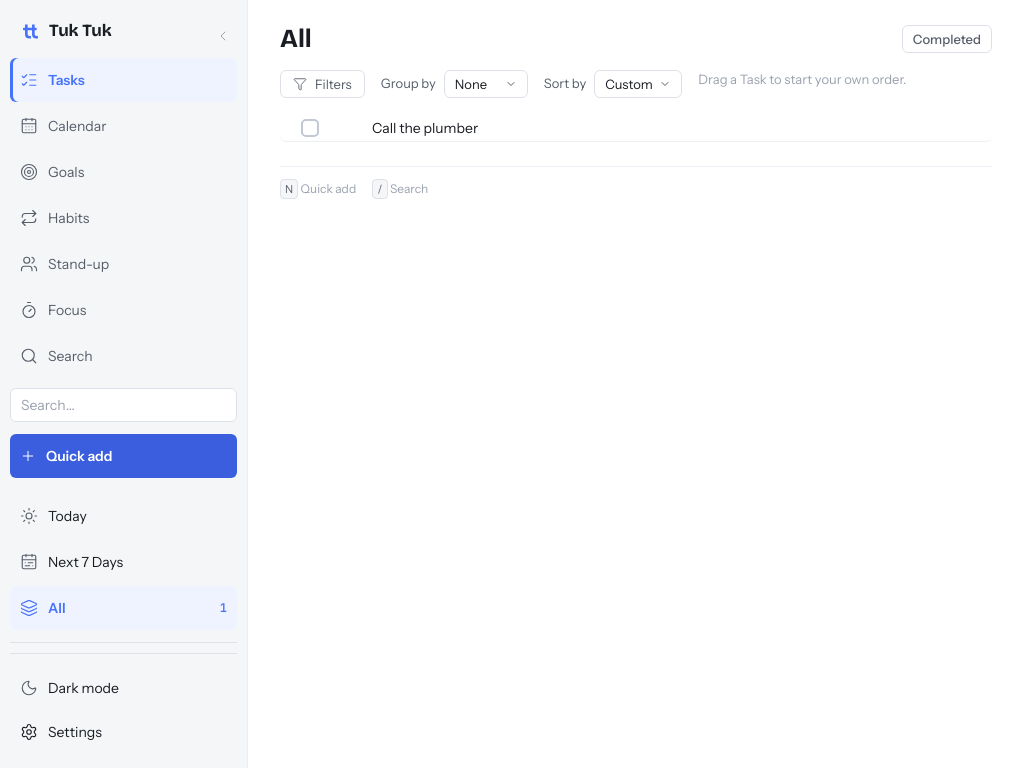
Test: acting on a Task from the command palette › opens scoped to the selected Task on cmd/ctrl+K
Click the button with aria-label "Open details for Call the plumber" at (490,128), box [372,119,608,137]
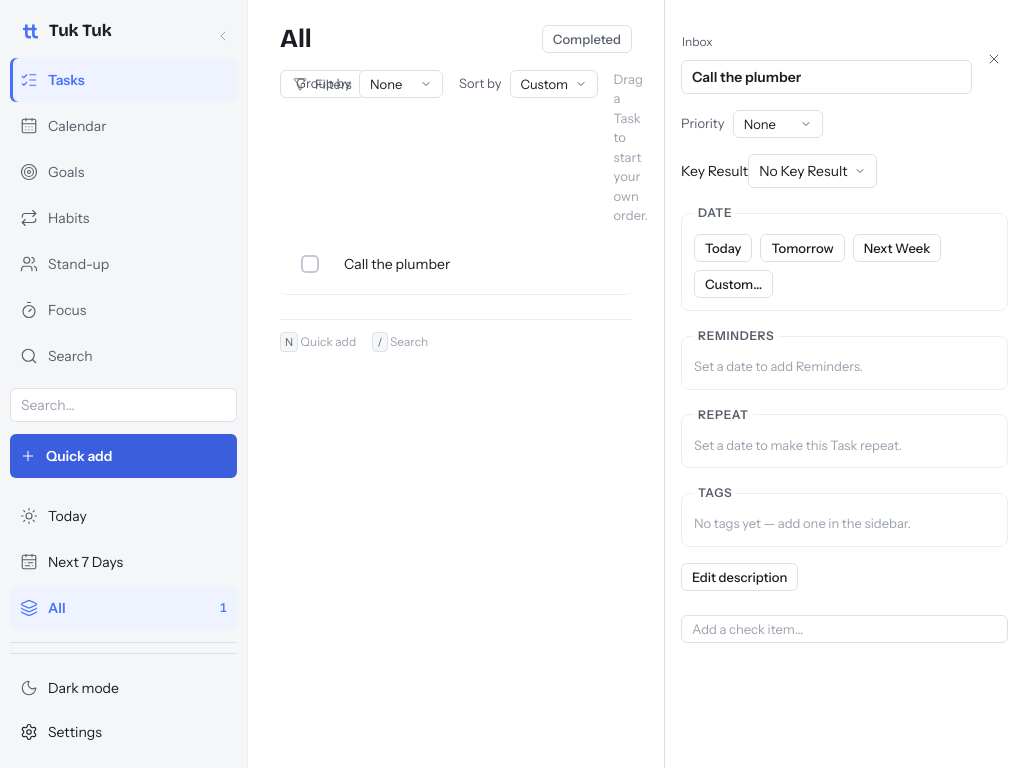
Expected: the element named "Task details" is shown, [664,0,1023,767]
Press k
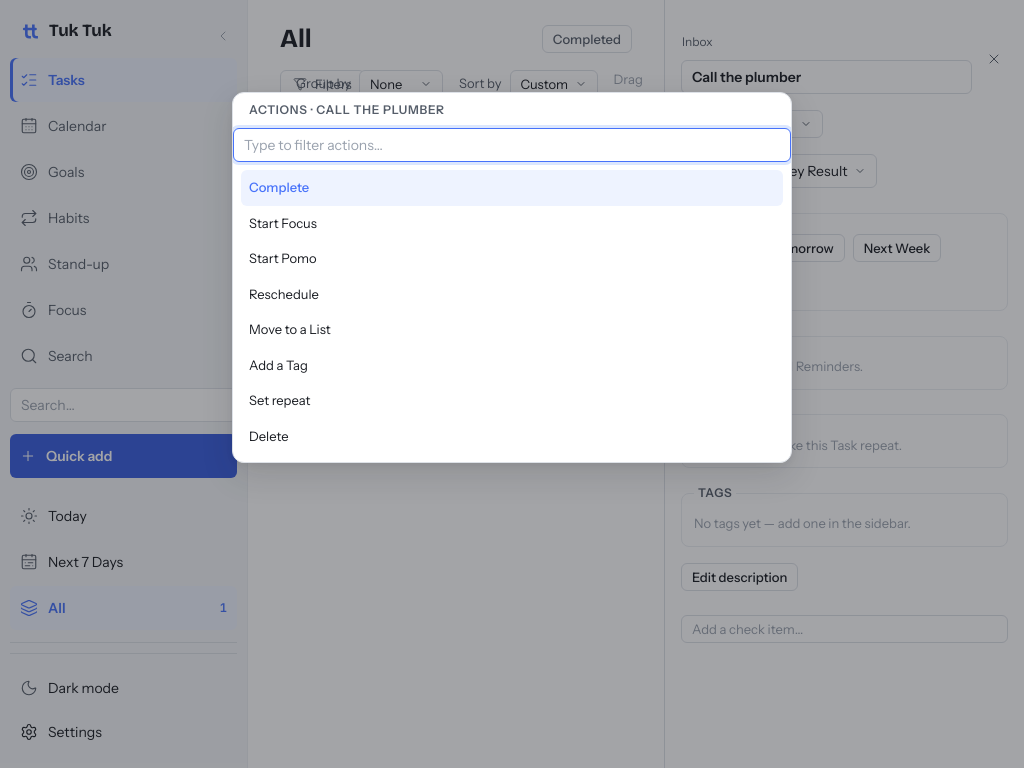
Expected: the option "Delete" is shown, [249,428,288,444]
